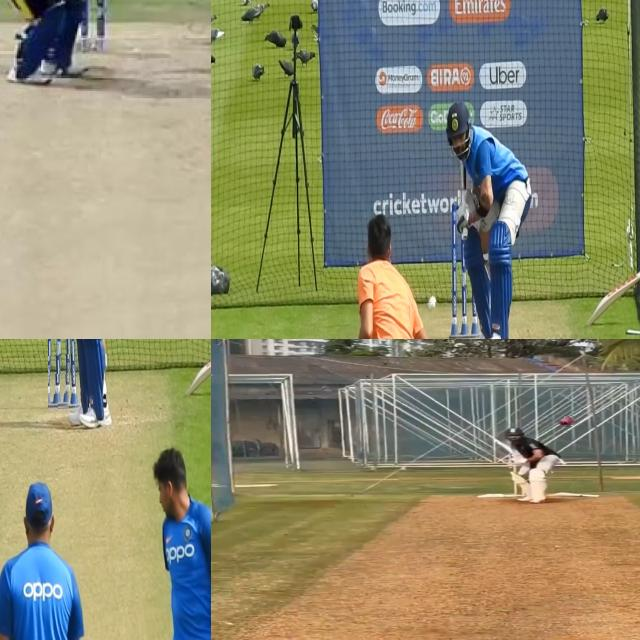Cricket ball: (426, 293, 439, 315), (558, 416, 574, 427)
Stumps: (47, 339, 76, 410)
